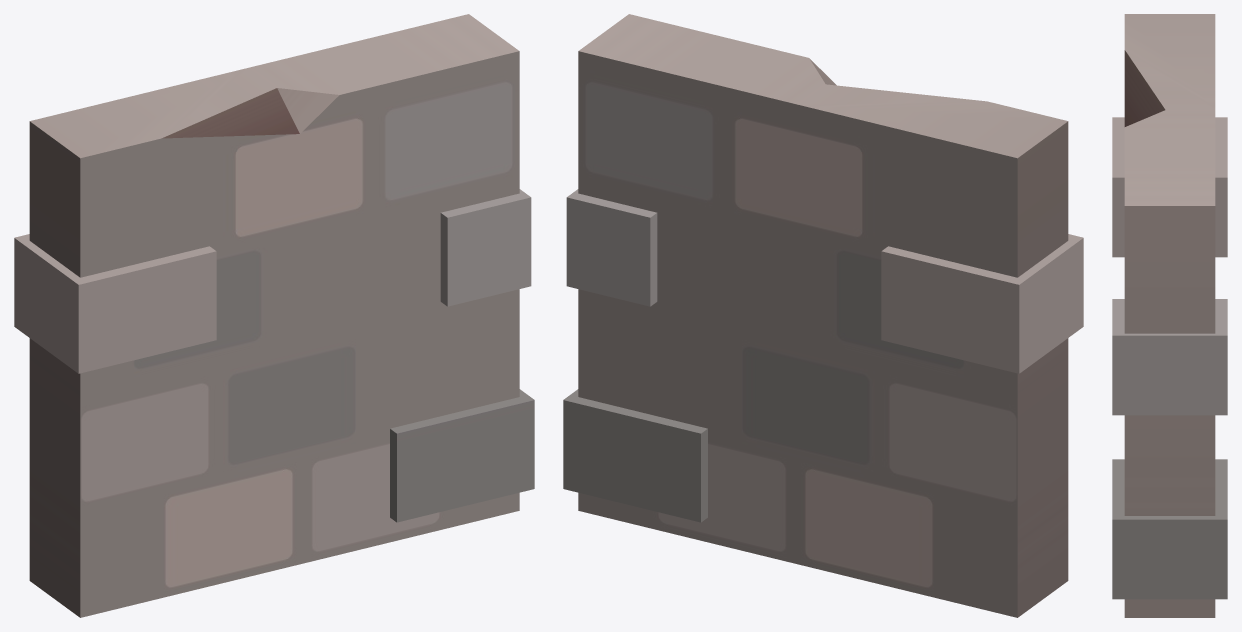
Rendered from SM_SmallWall_03.fbx.
The picture shows the model from 3 angles, left to right: view 1: azimuth 30°, elevation 25°; view 2: azimuth 150°, elevation 25°; view 3: azimuth 270°, elevation 25°; orthographic projection. The views are drawn at different scales.
Parts seen in each view (by area): view 1: SM_SmallWall_03; view 2: SM_SmallWall_03; view 3: SM_SmallWall_03.
Part boxes in pixels (box(x1,y1,x2,y2)): SM_SmallWall_03: box(14, 14, 534, 617); SM_SmallWall_03: box(563, 14, 1083, 617); SM_SmallWall_03: box(1112, 14, 1227, 617).
Bounding box in the file's own units: 1.04 × 1 × 0.2543.
